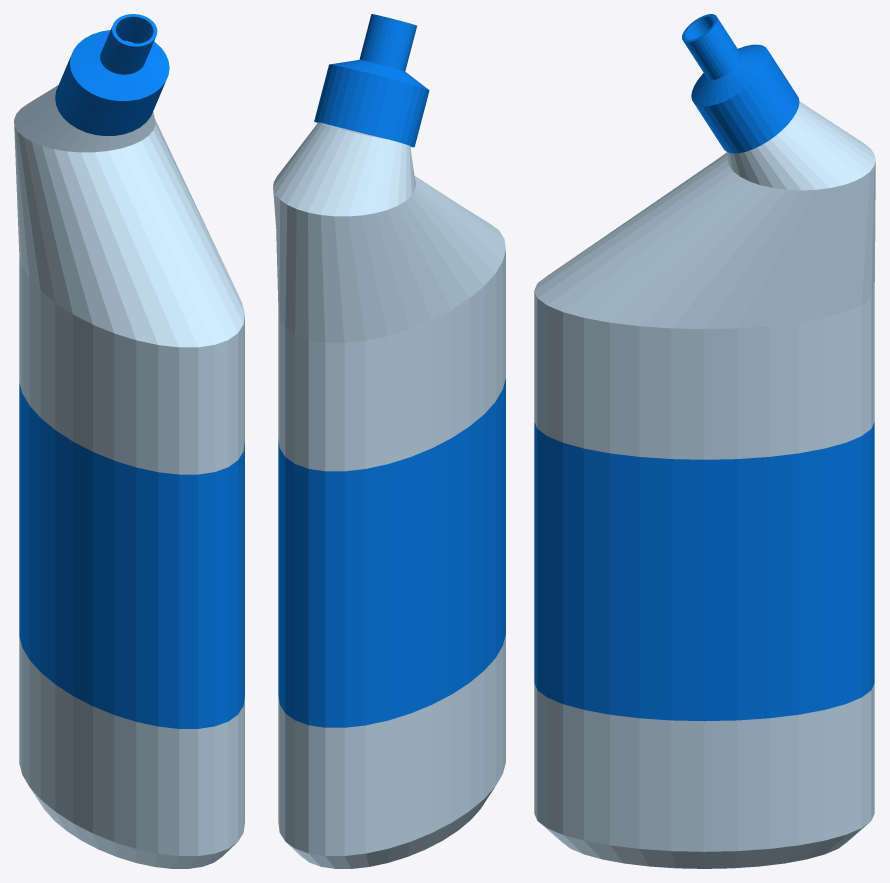
File: toilet-cleaner.fbx
3 renders of one model, left to right at view 1: azimuth 30°, elevation 25°; view 2: azimuth 150°, elevation 25°; view 3: azimuth 270°, elevation 25°, orthographic. The views are drawn at different scales.
Visible parts, largest first — view 1: Cylinder, Cylinder.002; view 2: Cylinder, Cylinder.002; view 3: Cylinder, Cylinder.002.
Part boxes in pixels (box(x1,y1,x2,y2)): Cylinder: box(14, 85, 244, 868); Cylinder.002: box(55, 14, 169, 135); Cylinder: box(273, 122, 505, 868); Cylinder.002: box(314, 14, 429, 147); Cylinder: box(534, 101, 875, 868); Cylinder.002: box(682, 14, 799, 153).
Size of the model in its own units: 107 by 530 by 201.
